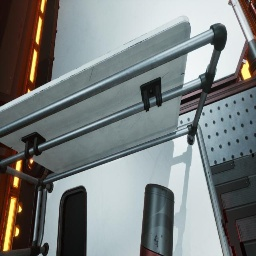NitrogenTank ,: (139, 183, 174, 256)
